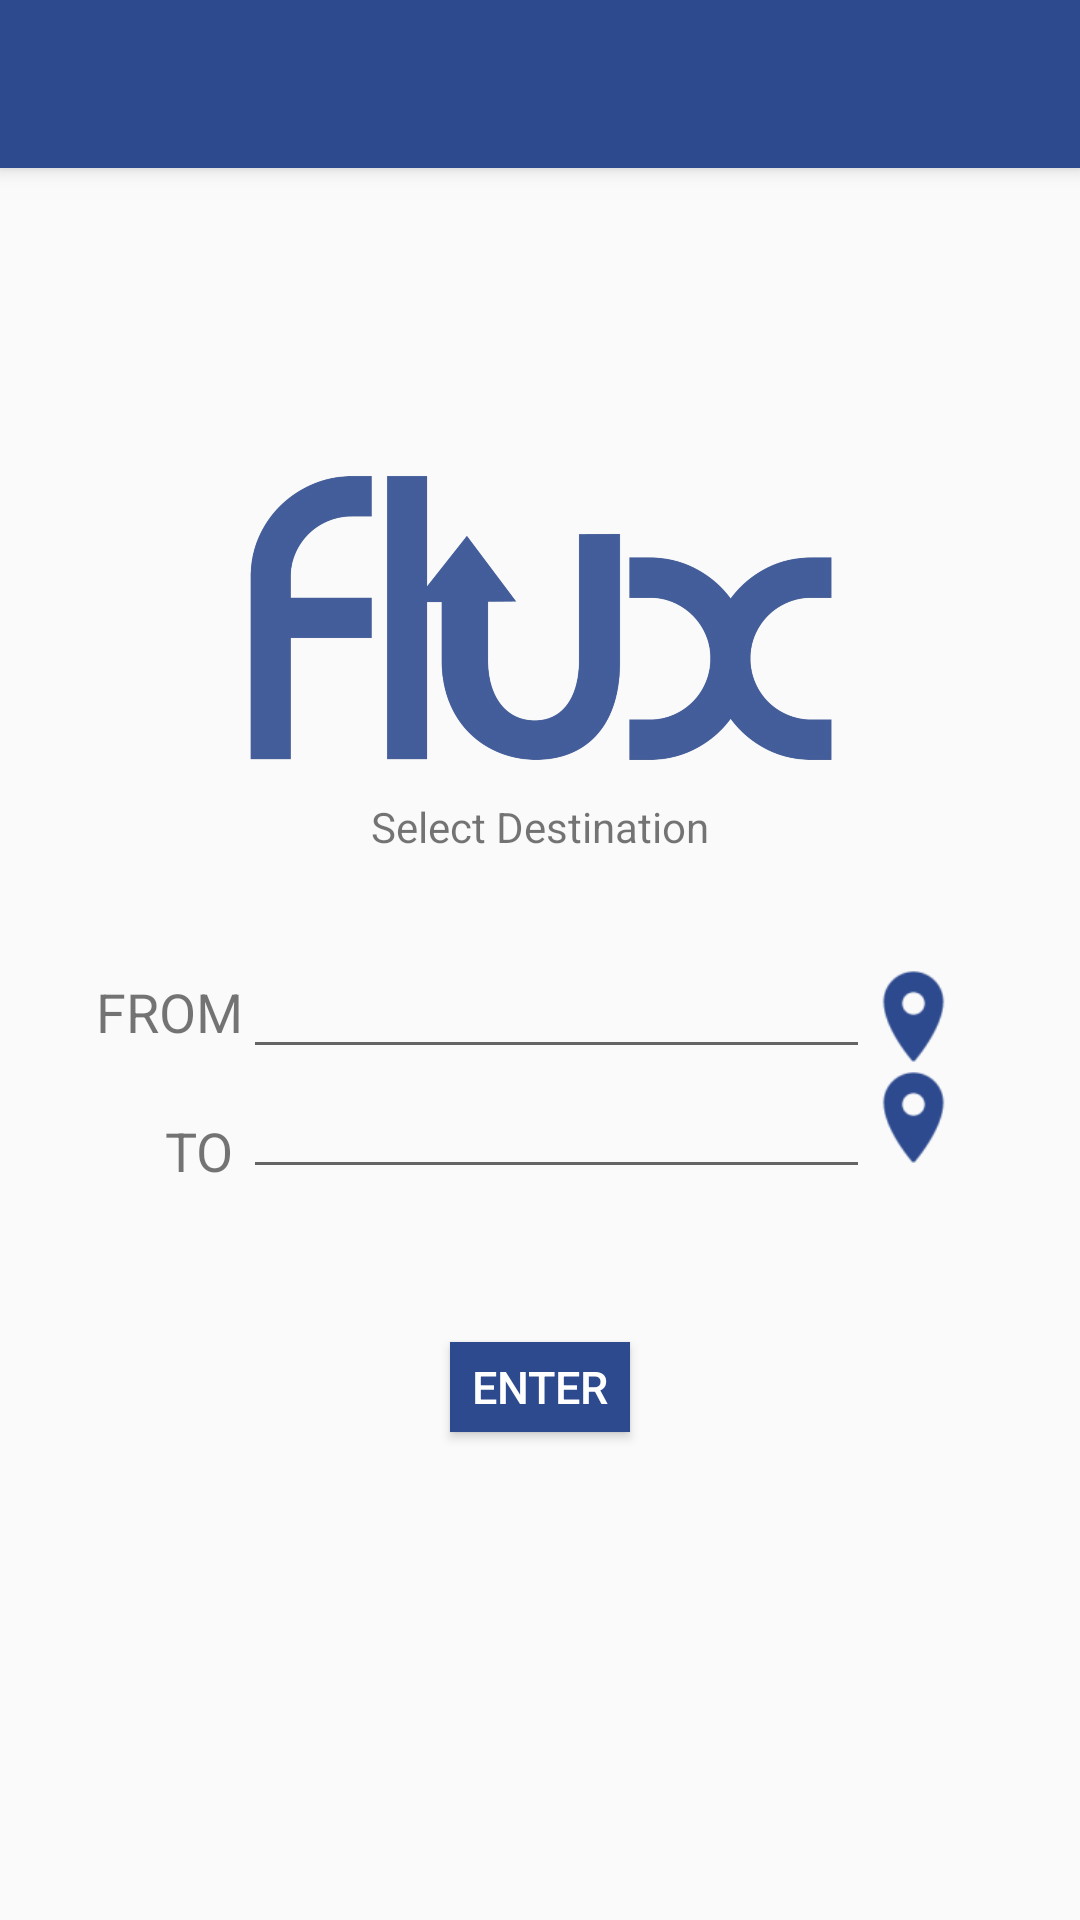

Screen size 1080×1920. Icon name, then its box in pixels as (x1, y1, x2, y2):
gps marker: (883, 971, 944, 1062), (883, 1072, 944, 1163)
